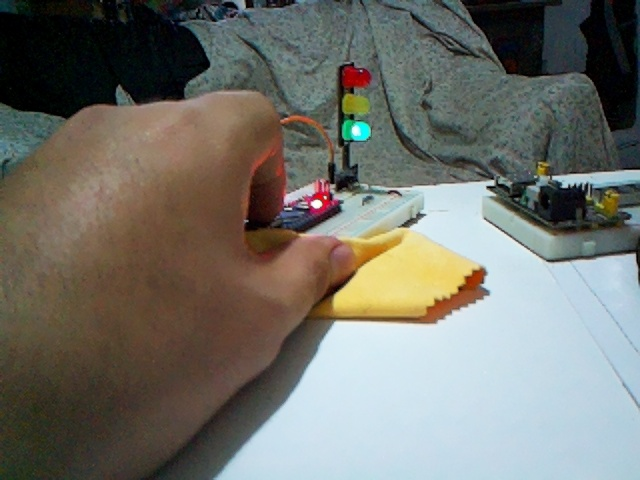traffic_light_green: (336, 62, 372, 185)
